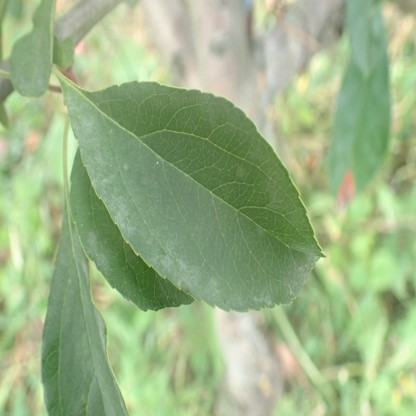powdery_mildew: (69, 79, 331, 310), (43, 205, 128, 416), (10, 0, 51, 96), (86, 234, 107, 268)
